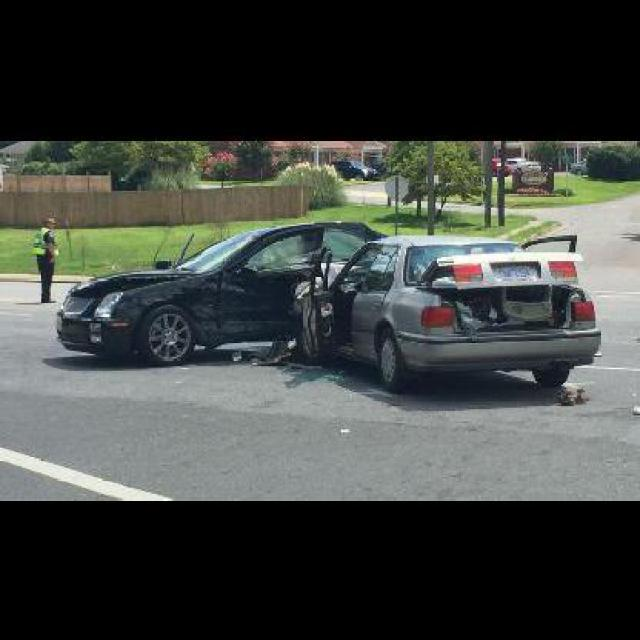accident: (44, 209, 602, 397)
